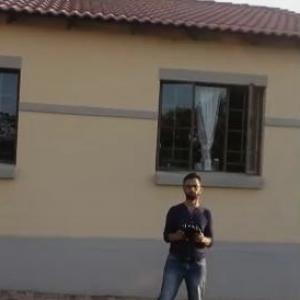follow: (145, 167, 221, 299)
